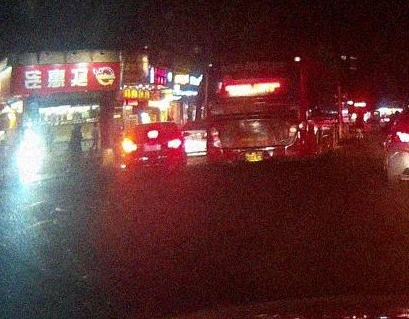L_light: (210, 126, 222, 148), (122, 144, 137, 152)
R_light: (286, 124, 297, 146), (168, 139, 181, 147)
T_light: (244, 92, 262, 97), (148, 132, 158, 136)
night-left: (122, 121, 181, 169)
night-no: (204, 56, 307, 170)
